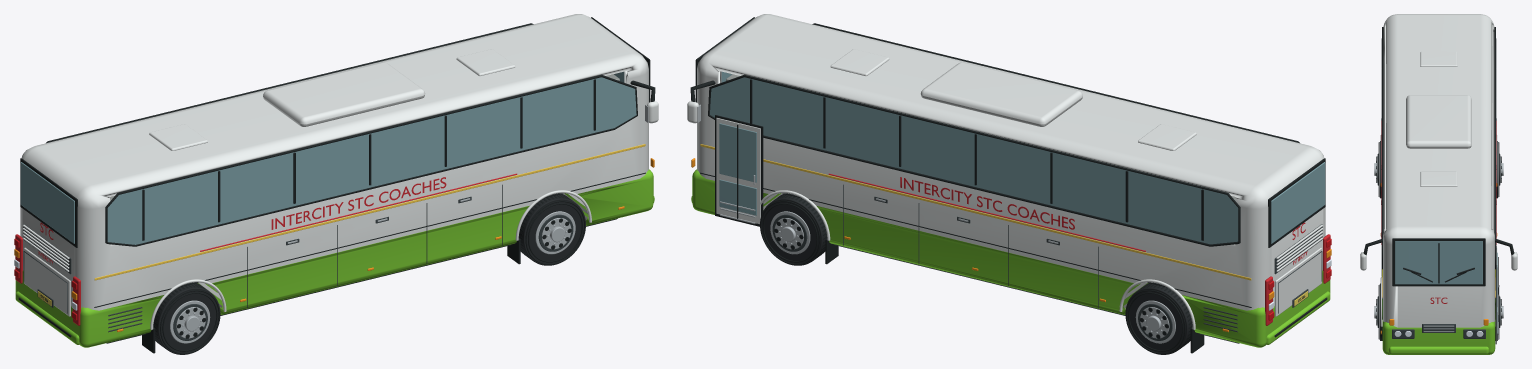
Rendered from bus.glb.
3 renders of one model, left to right at view 1: azimuth 30°, elevation 25°; view 2: azimuth 150°, elevation 25°; view 3: azimuth 270°, elevation 25°, orthographic. The views are drawn at different scales.
Visible parts, largest first — view 1: BusBodyMesh, Wheel_FRMesh, Wheel_RRMesh; view 2: BusBodyMesh, Wheel_FLMesh, Wheel_RLMesh; view 3: BusBodyMesh, Wheel_FRMesh, Wheel_RLMesh, Wheel_RRMesh, Wheel_FLMesh.
Boxes of the visible parts, left/top/right/bottom form: BusBodyMesh: left=14, top=14, right=658, bottom=353; Wheel_FRMesh: left=518, top=193, right=585, bottom=265; Wheel_RRMesh: left=153, top=282, right=220, bottom=354; BusBodyMesh: left=687, top=14, right=1331, bottom=353; Wheel_FLMesh: left=760, top=193, right=827, bottom=265; Wheel_RLMesh: left=1125, top=282, right=1192, bottom=354; BusBodyMesh: left=1360, top=14, right=1517, bottom=354; Wheel_FRMesh: left=1374, top=283, right=1382, bottom=340; Wheel_RLMesh: left=1496, top=141, right=1503, bottom=198; Wheel_RRMesh: left=1374, top=141, right=1381, bottom=198; Wheel_FLMesh: left=1495, top=285, right=1503, bottom=340.
Size of the model in its own units: 12.27 by 3.86 by 3.61.
